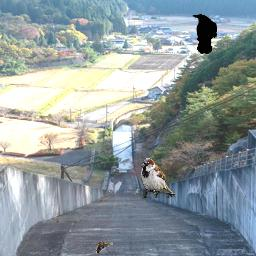Crow: (192, 14, 217, 54)
Sparrow: (141, 158, 175, 198)
Swallow: (96, 242, 113, 254)
